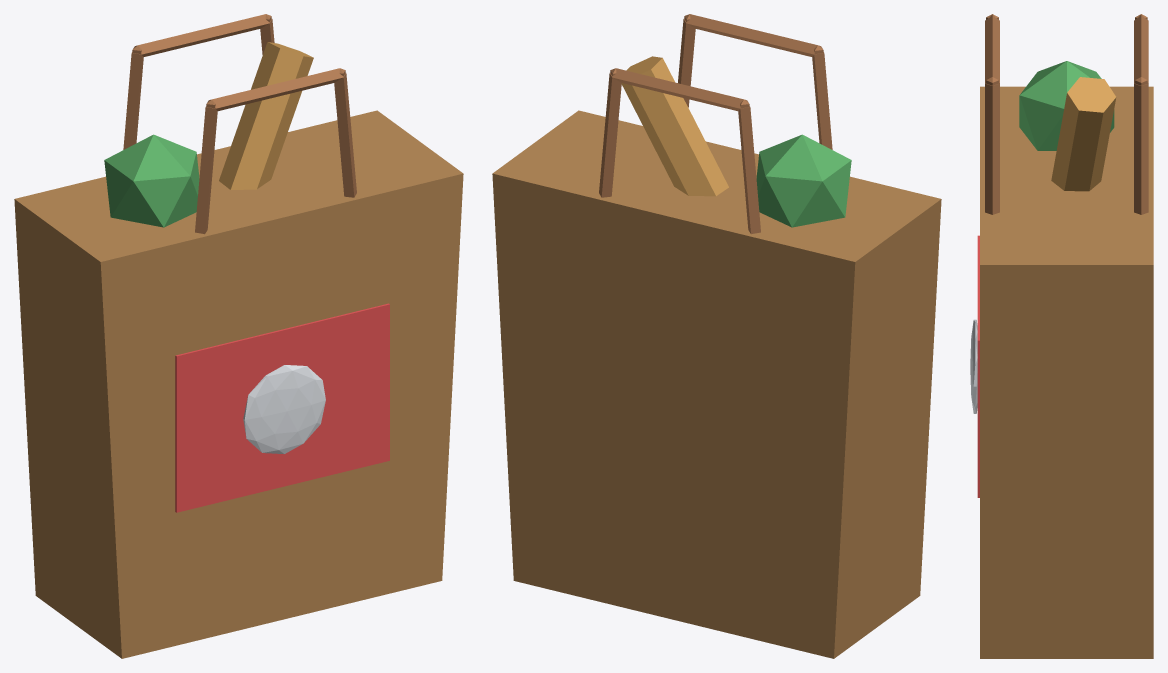
File: shopping_bag.glb
3 renders of one model, left to right at view 1: azimuth 30°, elevation 25°; view 2: azimuth 150°, elevation 25°; view 3: azimuth 270°, elevation 25°, orthographic.
Parts seen in each view (by area): view 1: shopping_bag; view 2: shopping_bag; view 3: shopping_bag.
Part boxes in pixels (bbox=[...]): shopping_bag: bbox=[14, 14, 463, 658]; shopping_bag: bbox=[492, 14, 941, 658]; shopping_bag: bbox=[970, 14, 1153, 658].
Bounding box in the file's own units: 0.34 × 0.476 × 0.148.
